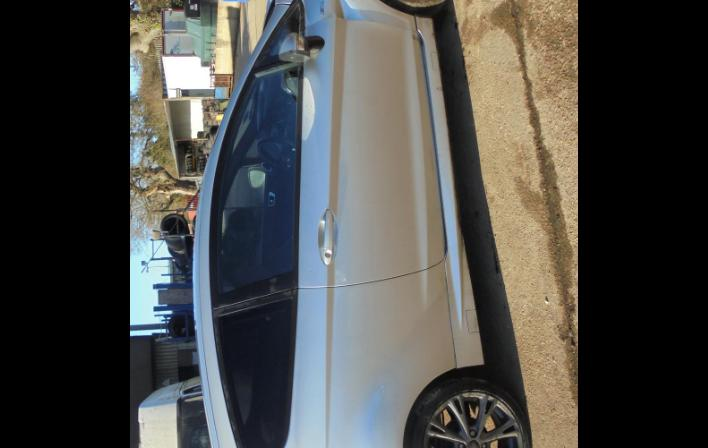Corrosion: (424, 17, 435, 39), (411, 32, 422, 47), (436, 84, 443, 92)
Dent: (324, 0, 370, 20)
Flaking: (212, 288, 297, 354), (251, 0, 305, 68), (221, 376, 242, 448), (292, 32, 305, 49), (269, 274, 278, 293), (298, 61, 303, 77)
